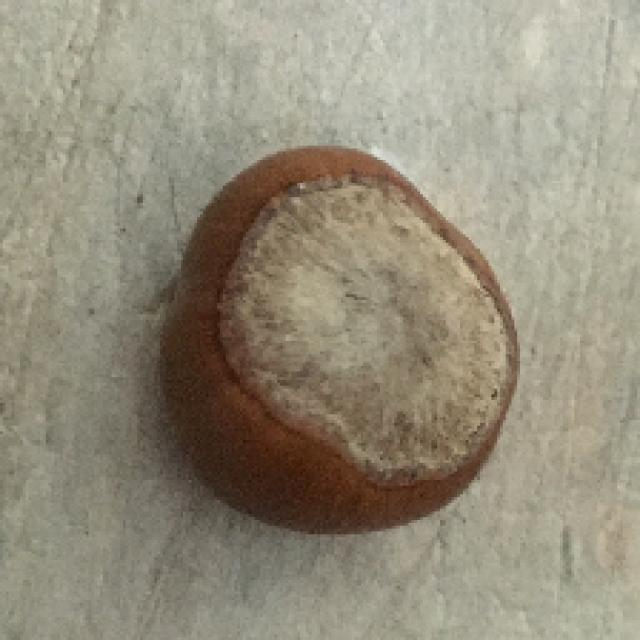qualityHazelnut: (150, 143, 522, 538)
